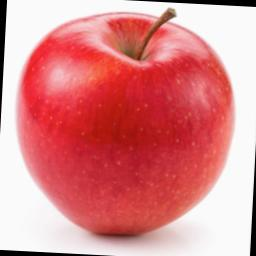Apple Ripe: (3, 15, 240, 256)
